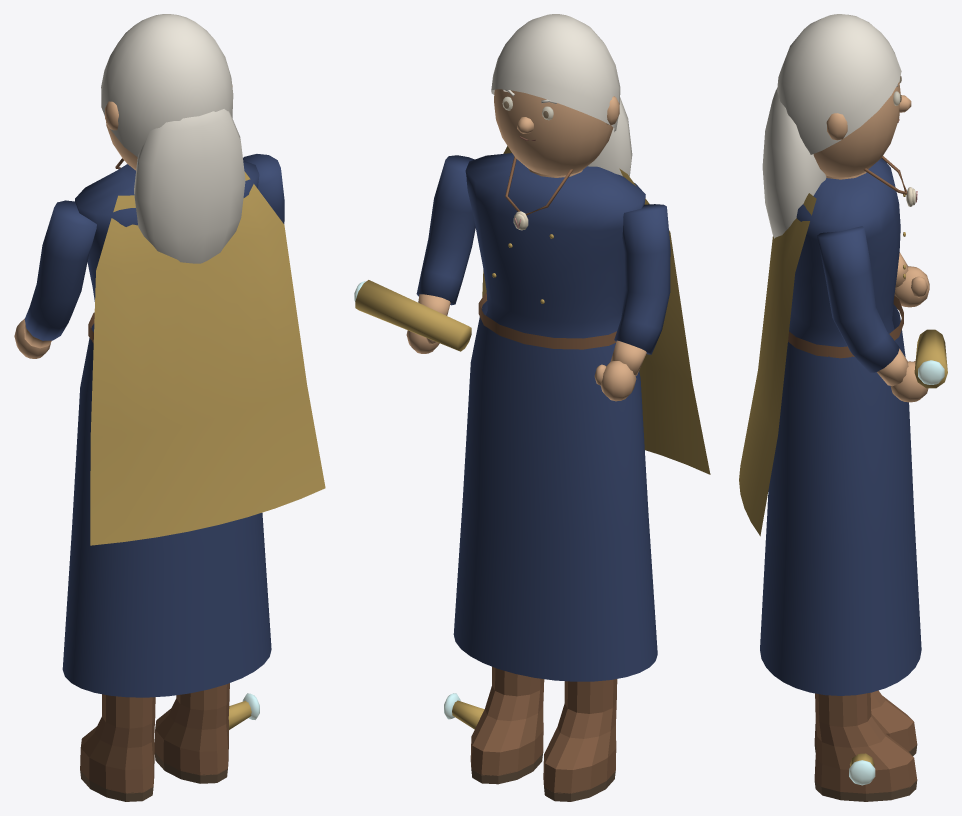
Rendered from SM_NPC_ESTRELLA.glb.
3 views of the same model, side by side, from view 1: azimuth 30°, elevation 25°; view 2: azimuth 150°, elevation 25°; view 3: azimuth 270°, elevation 25° (orthographic). The views are drawn at different scales.
Parts seen in each view (by area): view 1: SM_NPC_ESTRELLA_BODY, SM_NPC_ESTRELLA_HAIR, SM_NPC_ESTRELLA_ARM_L, SM_NPC_ESTRELLA_LEG_L, SM_NPC_ESTRELLA_LEG_R, SM_NPC_ESTRELLA_ARM_R, SM_NPC_ESTRELLA_HEAD; view 2: SM_NPC_ESTRELLA_BODY, SM_NPC_ESTRELLA_ARM_R, SM_NPC_ESTRELLA_HAIR, SM_NPC_ESTRELLA_ARM_L, SM_NPC_ESTRELLA_LEG_L, SM_NPC_ESTRELLA_HEAD, SM_NPC_ESTRELLA_LEG_R; view 3: SM_NPC_ESTRELLA_BODY, SM_NPC_ESTRELLA_HAIR, SM_NPC_ESTRELLA_ARM_R, SM_NPC_ESTRELLA_LEG_R, SM_NPC_ESTRELLA_HEAD, SM_NPC_ESTRELLA_LEG_L, SM_NPC_ESTRELLA_ARM_L.
Part boxes in pixels (x1,y1,x2,y2): SM_NPC_ESTRELLA_BODY: [62, 158, 325, 697]; SM_NPC_ESTRELLA_HAIR: [101, 14, 245, 263]; SM_NPC_ESTRELLA_ARM_L: [14, 200, 96, 358]; SM_NPC_ESTRELLA_LEG_L: [80, 694, 155, 801]; SM_NPC_ESTRELLA_LEG_R: [154, 683, 229, 783]; SM_NPC_ESTRELLA_ARM_R: [228, 154, 284, 729]; SM_NPC_ESTRELLA_HEAD: [105, 85, 232, 170]; SM_NPC_ESTRELLA_BODY: [453, 146, 710, 681]; SM_NPC_ESTRELLA_ARM_R: [354, 155, 484, 729]; SM_NPC_ESTRELLA_HAIR: [491, 14, 632, 176]; SM_NPC_ESTRELLA_ARM_L: [594, 204, 670, 401]; SM_NPC_ESTRELLA_LEG_L: [543, 679, 617, 801]; SM_NPC_ESTRELLA_HEAD: [494, 89, 619, 175]; SM_NPC_ESTRELLA_LEG_R: [470, 666, 544, 784]; SM_NPC_ESTRELLA_BODY: [739, 156, 921, 695]; SM_NPC_ESTRELLA_HAIR: [762, 14, 901, 238]; SM_NPC_ESTRELLA_ARM_R: [817, 226, 947, 785]; SM_NPC_ESTRELLA_LEG_R: [814, 692, 917, 801]; SM_NPC_ESTRELLA_HEAD: [813, 82, 911, 177]; SM_NPC_ESTRELLA_LEG_L: [814, 690, 917, 755]; SM_NPC_ESTRELLA_ARM_L: [894, 252, 929, 307].
Size of the model in its own units: 0.6901 by 1.81 by 0.4561.
